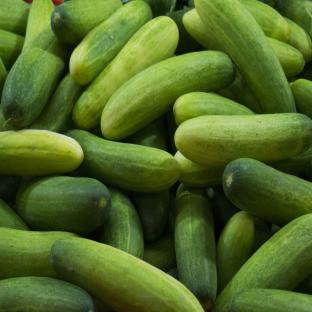Cucumber: (101, 51, 235, 140), (73, 17, 178, 129), (195, 0, 295, 113), (51, 238, 202, 311), (212, 214, 311, 311), (175, 114, 311, 168), (66, 130, 181, 192), (70, 0, 151, 85), (2, 23, 68, 127), (223, 159, 311, 226), (16, 177, 111, 235), (175, 185, 216, 311), (0, 228, 78, 279), (0, 130, 83, 176), (28, 73, 85, 133), (97, 187, 144, 258), (0, 277, 96, 311), (51, 0, 121, 45), (217, 212, 254, 295), (174, 92, 253, 125), (183, 9, 226, 53), (216, 71, 261, 113), (206, 186, 240, 241), (134, 189, 169, 241), (231, 289, 311, 311), (175, 151, 223, 187), (123, 116, 167, 151), (169, 8, 201, 55), (23, 0, 54, 48), (267, 37, 304, 76), (268, 37, 304, 77), (143, 234, 176, 272), (284, 18, 311, 63), (267, 148, 311, 174), (0, 30, 24, 70), (0, 199, 30, 230), (290, 79, 311, 117), (253, 216, 271, 253), (164, 186, 177, 233), (0, 175, 21, 203), (166, 111, 177, 155), (294, 274, 311, 294), (93, 298, 112, 311), (298, 62, 311, 80), (303, 162, 311, 181), (167, 268, 179, 280), (270, 224, 281, 236), (188, 0, 194, 7)
